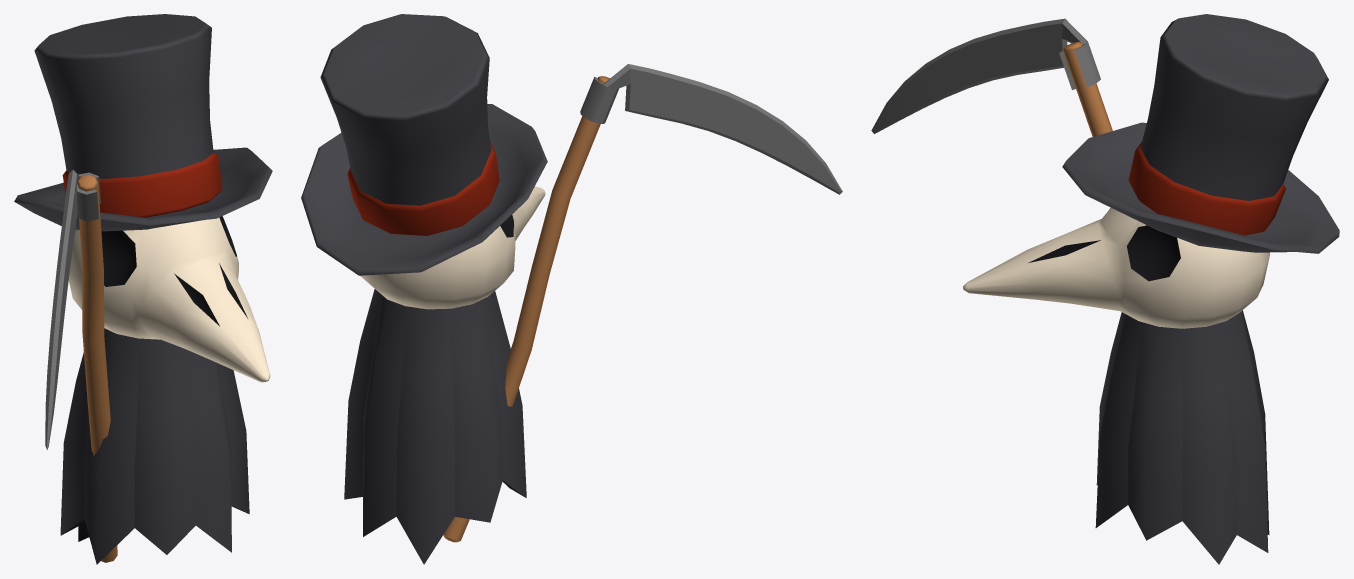
Rendered from Assembled_Character_1.fbx.
3 views of the same model, side by side, from view 1: azimuth 30°, elevation 25°; view 2: azimuth 150°, elevation 25°; view 3: azimuth 270°, elevation 25° (orthographic). The views are drawn at different scales.
Visible parts, largest first — view 1: Top_Hat, Ghost_2, Bird_Skull, Scythe; view 2: Top_Hat, Ghost_2, Scythe, Bird_Skull; view 3: Top_Hat, Ghost_2, Bird_Skull, Scythe.
Boxes of the visible parts, <box> form: Top_Hat: <box>14,14,272,231</box>; Ghost_2: <box>60,328,249,564</box>; Bird_Skull: <box>68,216,270,382</box>; Scythe: <box>45,170,117,562</box>; Top_Hat: <box>301,14,547,275</box>; Ghost_2: <box>344,289,526,564</box>; Scythe: <box>443,64,842,542</box>; Bird_Skull: <box>360,186,545,309</box>; Top_Hat: <box>1062,14,1339,253</box>; Ghost_2: <box>1095,310,1269,564</box>; Bird_Skull: <box>963,208,1269,328</box>; Scythe: <box>871,18,1112,136</box>.
Bounding box in the file's own units: 43.86 × 58.74 × 48.26.
